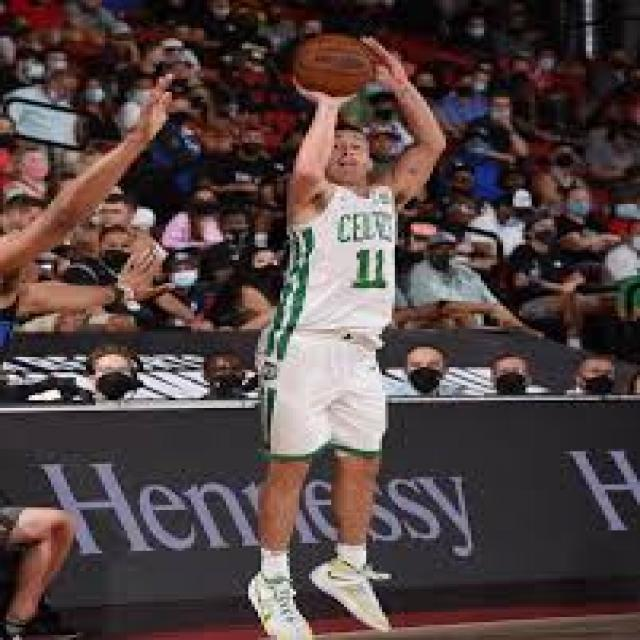rim: (296, 36, 373, 97)
